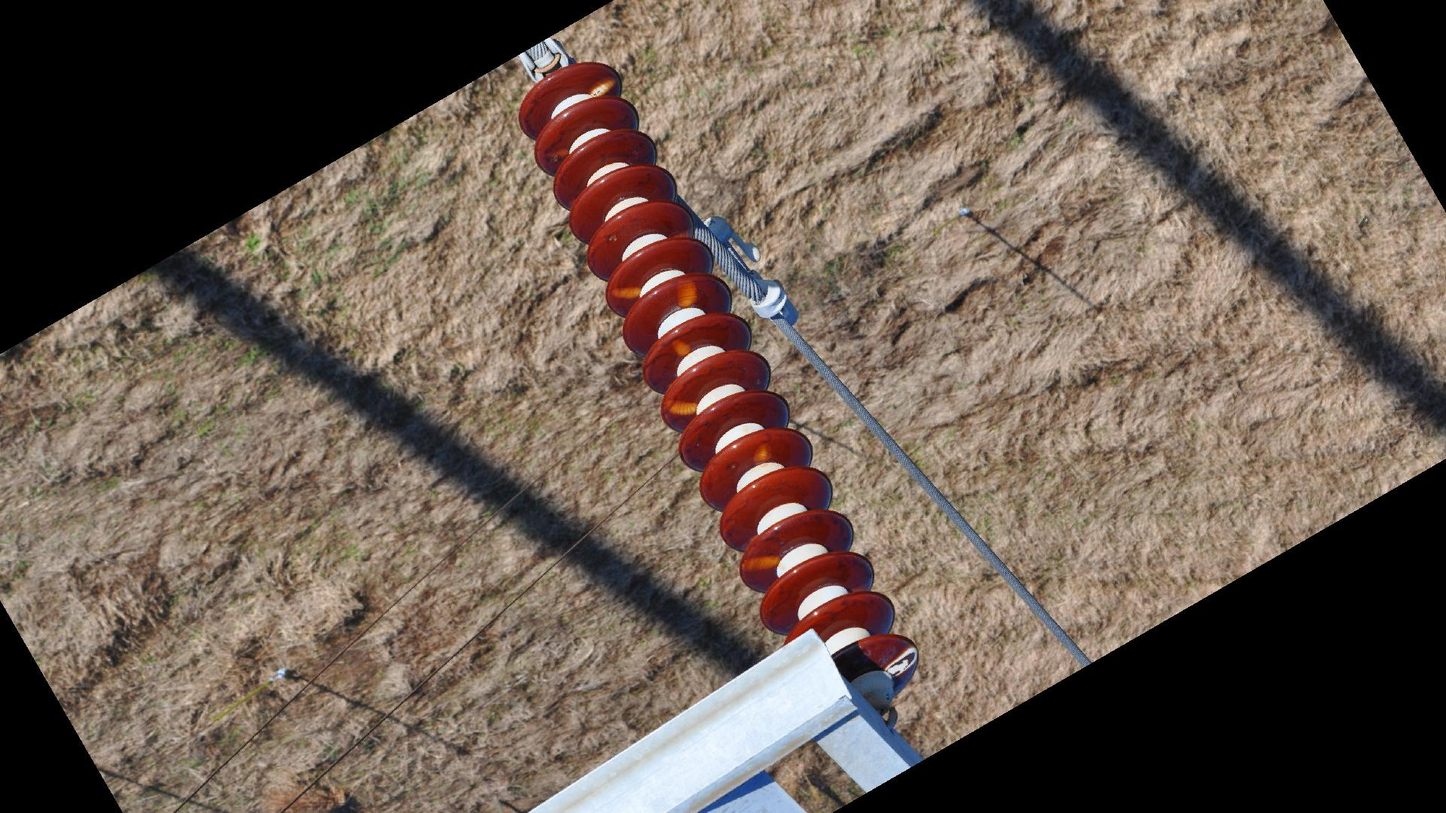insulator: (513, 59, 930, 700)
insulator_flashover: (883, 645, 920, 677), (739, 553, 782, 574), (673, 276, 699, 307), (661, 397, 699, 418), (587, 76, 616, 99), (751, 440, 774, 467), (609, 285, 642, 301), (670, 337, 692, 358)
